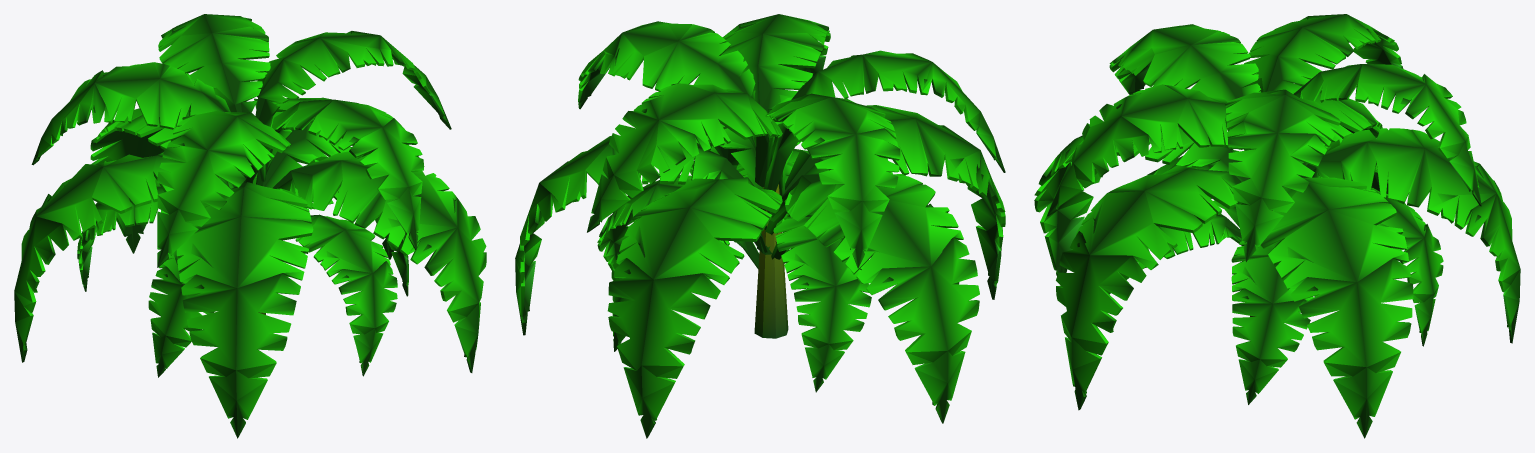
Rendered from palmbush.fbx.
The picture shows the model from 3 angles, left to right: view 1: azimuth 30°, elevation 25°; view 2: azimuth 150°, elevation 25°; view 3: azimuth 270°, elevation 25°; orthographic projection. The views are drawn at different scales.
Parts seen in each view (by area): view 1: palmbush_LOD0; view 2: palmbush_LOD0; view 3: palmbush_LOD0.
Boxes of the visible parts, left/top/right/bottom form: palmbush_LOD0: left=14, top=14, right=486, bottom=438; palmbush_LOD0: left=515, top=14, right=1005, bottom=438; palmbush_LOD0: left=1034, top=14, right=1520, bottom=438.
Size of what is drawn, in the model's own units: 3.51 by 3.54 by 2.32.
